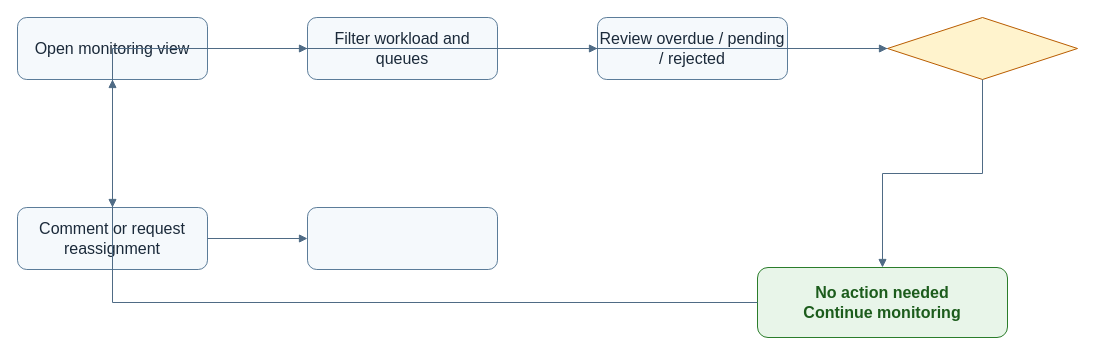
Some shapes in this 1095 by 355 pixel diagram are drawn without their labels. The shapes that lost their labels are listed below. From the top down, each one's box as (x1, y1, x2, y2) in pixels, then its label:
(886, 16, 1078, 80): Action needed?
(306, 206, 498, 270): Write history and notify
